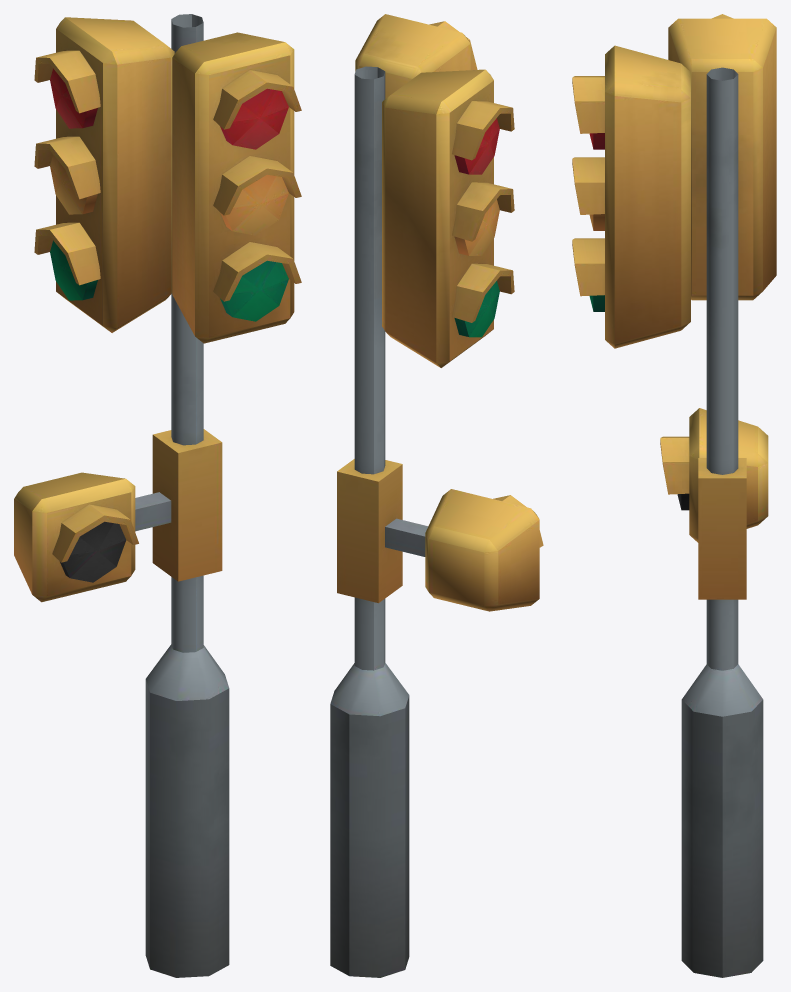
Rendered from trafficlight_A.glb.
The picture shows the model from 3 angles, left to right: view 1: azimuth 30°, elevation 25°; view 2: azimuth 150°, elevation 25°; view 3: azimuth 270°, elevation 25°; orthographic projection. The views are drawn at different scales.
Parts seen in each view (by area): view 1: trafficlight_A; view 2: trafficlight_A; view 3: trafficlight_A.
Boxes of the visible parts, <box> form: trafficlight_A: <box>14,14,301,977</box>; trafficlight_A: <box>330,14,543,977</box>; trafficlight_A: <box>572,14,776,977</box>.
Size of the model in its own units: 0.1744 by 0.7295 by 0.1506.
Materials: 1 (1 with a texture image).
